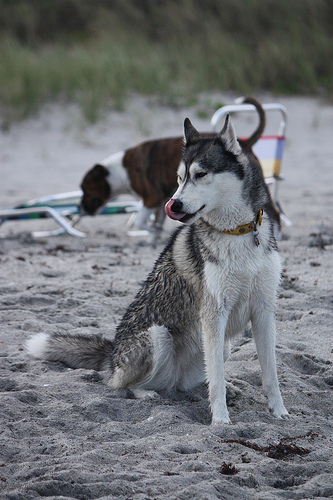dog: (27, 107, 291, 430), (77, 97, 300, 248)
